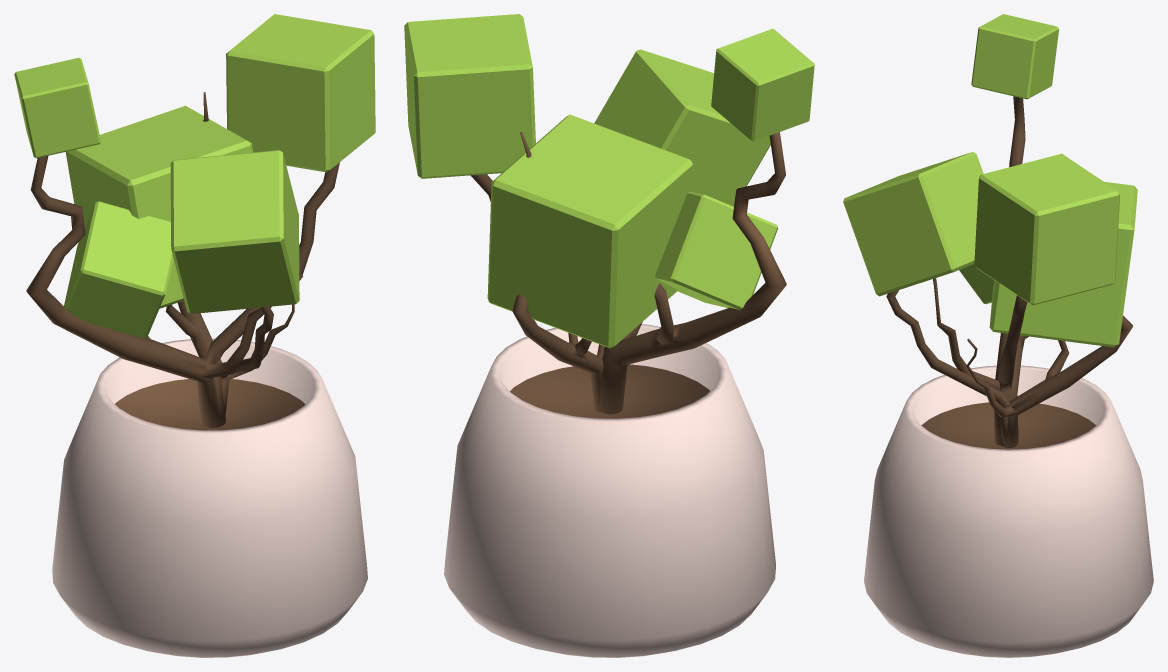
File: testplant.glb
3 renders of one model, left to right at view 1: azimuth 30°, elevation 25°; view 2: azimuth 150°, elevation 25°; view 3: azimuth 270°, elevation 25°, orthographic. The views are drawn at different scales.
Parts seen in each view (by area): view 1: pot, leaves, branch2, branch1; view 2: pot, leaves, branch2, branch1; view 3: pot, leaves, branch1, branch2.
Part boxes in pixels (<box>): pot: <box>52,338,367,657</box>; leaves: <box>14,14,375,338</box>; branch2: <box>26,156,339,427</box>; branch1: <box>165,92,303,415</box>; pot: <box>444,324,775,657</box>; leaves: <box>404,14,814,348</box>; branch2: <box>470,132,786,414</box>; branch1: <box>512,132,604,412</box>; pot: <box>864,365,1153,657</box>; leaves: <box>843,14,1137,347</box>; branch1: <box>886,290,1132,447</box>; branch2: <box>933,96,1028,445</box>.
Size of the model in its own units: 3.52 by 5.17 by 2.79.
Materials: 1 (1 with a texture image).
